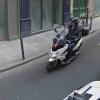Motorcycle: (34, 17, 86, 74)
